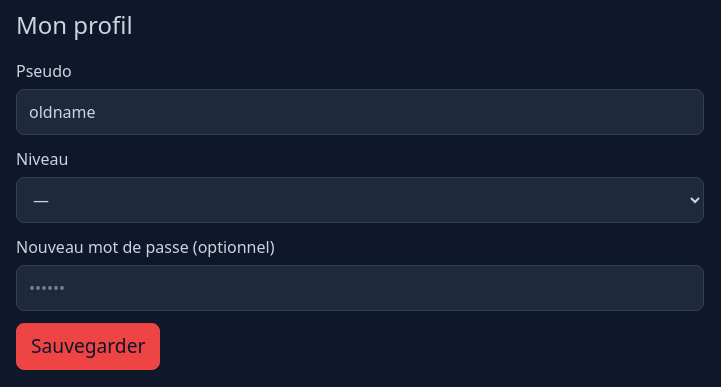
Test: ProfilePage › submits form and updates user
This screenshot has width=721, height=387.
Replace the text in the field with id "username" with "newname" at {"x": 360, "y": 112}, box top-left (16, 89), bottom-right (704, 135)
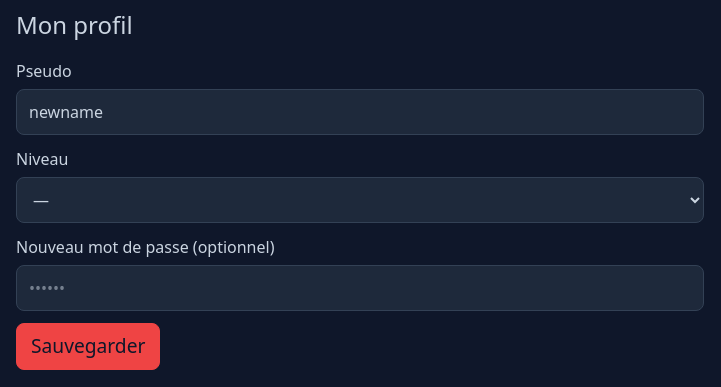
Select "Confirmé" in the dropdown with id "skill_level" at {"x": 360, "y": 200}, box top-left (16, 177), bottom-right (704, 223)
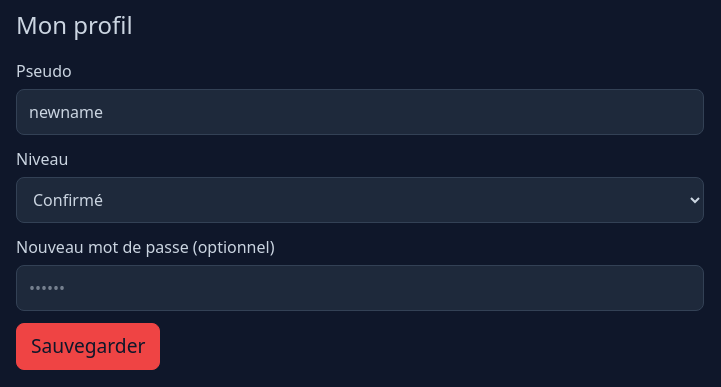
Submit the form
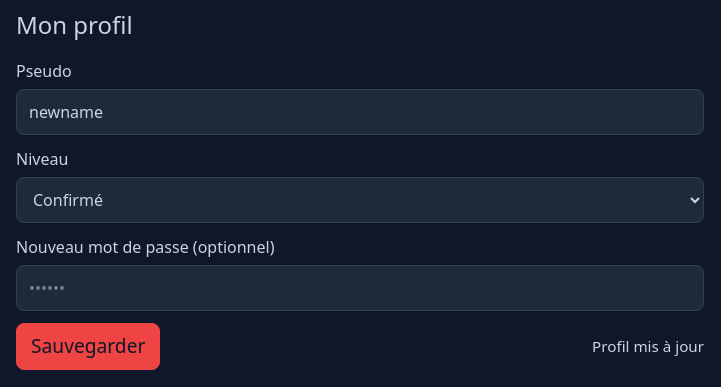
expect the text "Profil mis à jour" is shown: met, box top-left (592, 335), bottom-right (704, 358)
